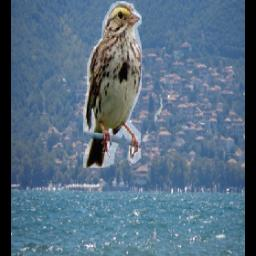Sparrow: (83, 2, 142, 169)
